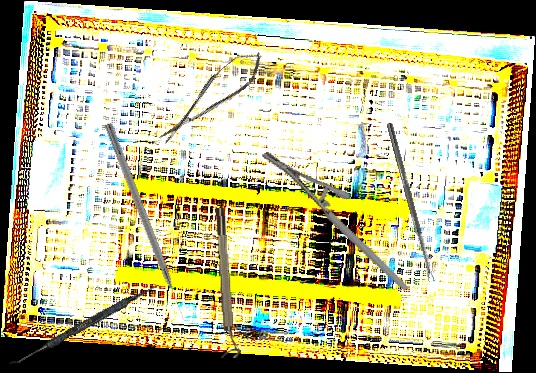Fixation Ring: (213, 207, 241, 359)
Hook Surgical: (102, 121, 188, 322)
Micro Scissor: (150, 44, 271, 150)
Needle Holder: (260, 122, 410, 321)
Spatula Surgical: (8, 278, 161, 372)
Surgical Spoon: (385, 122, 435, 283)
